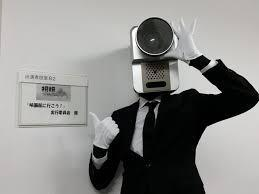no more kid: (130, 12, 182, 96)
